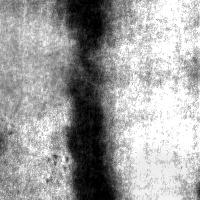patches: (0, 6, 74, 118), (67, 75, 109, 200), (122, 157, 190, 200), (59, 1, 112, 52)
